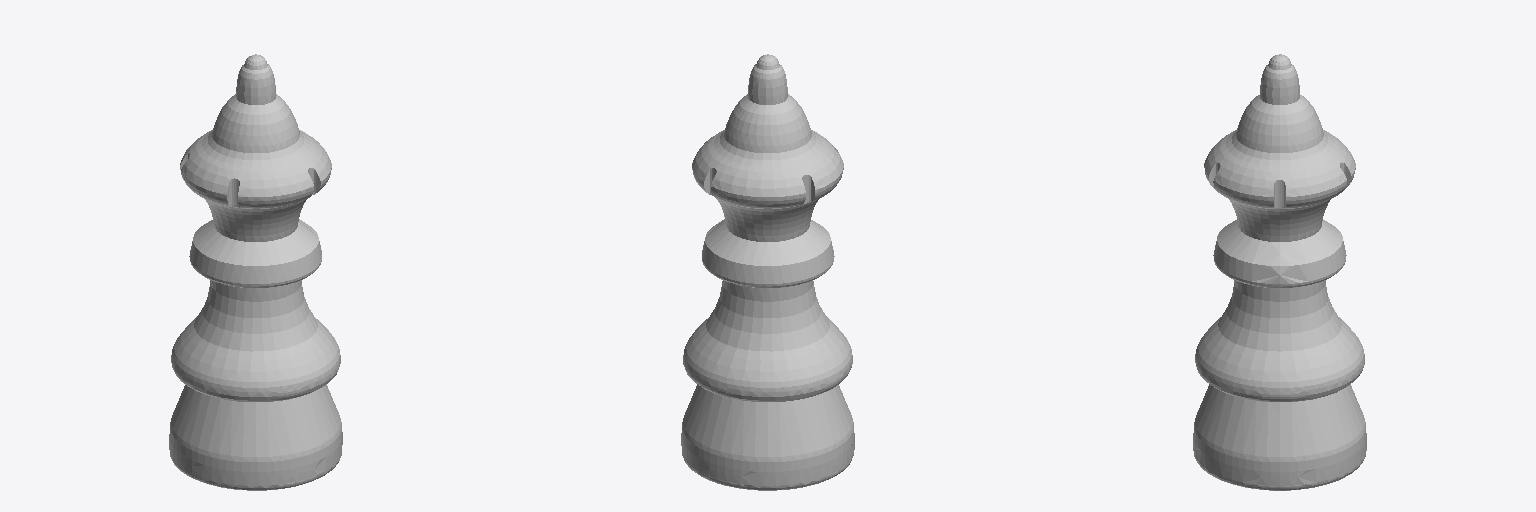
The model's file is blackQueen.obj.
3 views of the same model, side by side, from view 1: azimuth 30°, elevation 25°; view 2: azimuth 150°, elevation 25°; view 3: azimuth 270°, elevation 25° (orthographic).
Parts seen in each view (by area): view 1: Obj_000092; view 2: Obj_000092; view 3: Obj_000092.
Boxes of the visible parts, <box> form: Obj_000092: <box>169,54,342,490</box>; Obj_000092: <box>681,54,854,490</box>; Obj_000092: <box>1193,54,1366,490</box>.
Size of the model in its own units: 3.62 by 9.23 by 3.62.